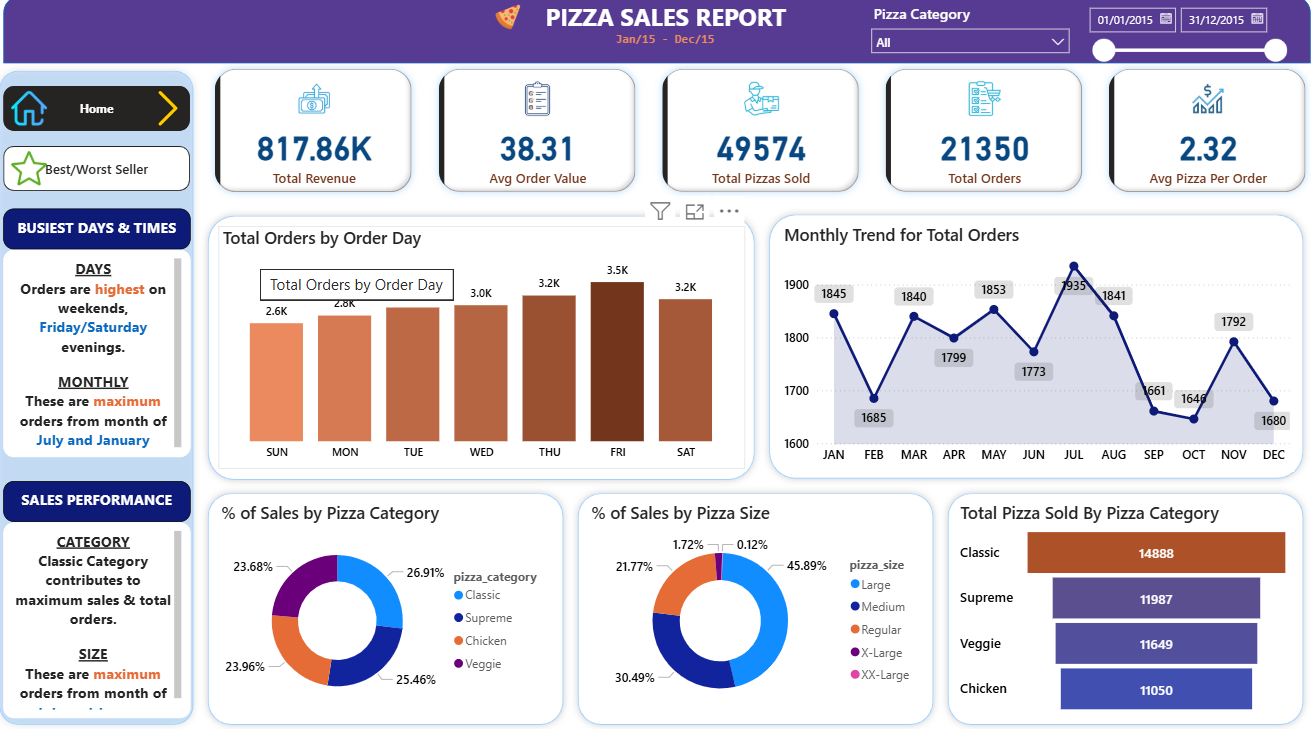

What the dashboard file says about the page in this screenshot:
{"tool":"powerbi","page":{"name":"Home","canvas":[1500,820],"ordinal":0},"visuals":[{"type":"shape","box":[0,75.2,232.6,745.1],"z":0},{"type":"cardVisual","fields":{"Data":["pizza_sales.Total Revenue","pizza_sales.Avg Order Value","pizza_sales.Total Pizzas Sold","pizza_sales.Total Orders","pizza_sales.Avg Pizza Per Order"]},"box":[232.6,65.5,1250.6,169.9],"z":1000},{"type":"shape","box":[12.5,0,1456.7,75.2],"z":2000},{"type":"textbox","box":[603,0,295.2,46],"z":3000},{"type":"textbox","box":[683.8,33.4,132.3,32],"z":4000},{"type":"image","box":[545.9,4.2,57.1,39],"z":5000},{"type":"shape","box":[232.6,236.8,625.3,310.6],"z":6000},{"type":"columnChart","fields":{"Category":["pizza_sales.Order Day"],"Y":["pizza_sales.Total Orders"]},"box":[252.1,256.3,587.7,270.2],"z":7000},{"type":"shape","box":[857.9,235.4,611.4,310.6],"z":8000},{"type":"areaChart","title":"Monthly Trend for Total Orders","fields":{"Category":["pizza_sales.Order Month"],"Y":["pizza_sales.Total Orders"]},"box":[877.4,253.5,573.8,277.1],"z":9000},{"type":"shape","box":[232.6,545.9,412.2,274.4],"z":10000},{"type":"shape","box":[644.8,545.9,412.2,274.4],"z":11000},{"type":"shape","box":[1057,545.9,412.2,274.4],"z":12000},{"type":"donutChart","title":"% of Sales by Pizza Category","fields":{"Category":["pizza_sales.pizza_category"],"Y":["pizza_sales.Total Revenue"]},"box":[250.7,562.6,377.4,242.3],"z":13000},{"type":"donutChart","title":"% of Sales by Pizza Size","fields":{"Y":["pizza_sales.Total Revenue"],"Category":["pizza_sales.pizza_size"]},"box":[662.9,562.6,377.4,242.3],"z":14000},{"type":"funnel","title":"Total Pizza Sold By Pizza Category","fields":{"Category":["pizza_sales.pizza_category"],"Y":["pizza_sales.Total Pizzas Sold"]},"box":[1073.7,562.6,377.4,242.3],"z":15000},{"type":"textbox","box":[12.5,236.8,208.9,46],"z":16000},{"type":"textbox","box":[12.5,282.7,208.9,231.2],"z":17000},{"type":"textbox","box":[12.5,540.4,208.9,46],"z":18000},{"type":"textbox","box":[12.5,586.3,208.9,218.6],"z":19000},{"type":"slicer","fields":{"Values":["pizza_sales.order_date"]},"box":[1210.2,2.8,240.9,72.4],"z":20000},{"type":"slicer","fields":{"Values":["pizza_sales.pizza_category"]},"box":[969.3,2.8,240.9,72.4],"z":21000},{"type":"pageNavigator","box":[12.5,100.3,208.9,50.1],"z":22000},{"type":"pageNavigator","box":[12.5,167.1,208.9,50.1],"z":23000},{"type":"image","box":[171.3,100.3,50.1,50.1],"z":24000},{"type":"image","box":[12.5,100.3,57.1,50.1],"z":24001},{"type":"image","box":[12.5,167.1,57.1,50.1],"z":24002}]}

Visuals, with their boxes in screenshot pixels (x1, y1, x2, y2), scaled from the page's 1500x820 canvas onto the 1311x729 screenshot:
shape: box=[0, 67, 203, 728]
cardVisual - pizza_sales.Total Revenue x pizza_sales.Avg Order Value: box=[203, 58, 1296, 209]
shape: box=[11, 0, 1284, 67]
textbox: box=[527, 0, 785, 41]
textbox: box=[598, 30, 713, 58]
image: box=[477, 4, 527, 38]
shape: box=[203, 211, 750, 487]
columnChart - pizza_sales.Order Day x pizza_sales.Total Orders: box=[220, 228, 734, 468]
shape: box=[750, 209, 1284, 485]
"Monthly Trend for Total Orders" areaChart: box=[767, 225, 1268, 472]
shape: box=[203, 485, 564, 728]
shape: box=[564, 485, 924, 728]
shape: box=[924, 485, 1284, 728]
"% of Sales by Pizza Category" donutChart: box=[219, 500, 549, 716]
"% of Sales by Pizza Size" donutChart: box=[579, 500, 909, 716]
"Total Pizza Sold By Pizza Category" funnel: box=[938, 500, 1268, 716]
textbox: box=[11, 211, 194, 251]
textbox: box=[11, 251, 194, 457]
textbox: box=[11, 480, 194, 521]
textbox: box=[11, 521, 194, 716]
slicer - pizza_sales.order_date: box=[1058, 2, 1268, 67]
slicer - pizza_sales.pizza_category: box=[847, 2, 1058, 67]
pageNavigator: box=[11, 89, 194, 134]
pageNavigator: box=[11, 149, 194, 193]
image: box=[150, 89, 194, 134]
image: box=[11, 89, 61, 134]
image: box=[11, 149, 61, 193]
